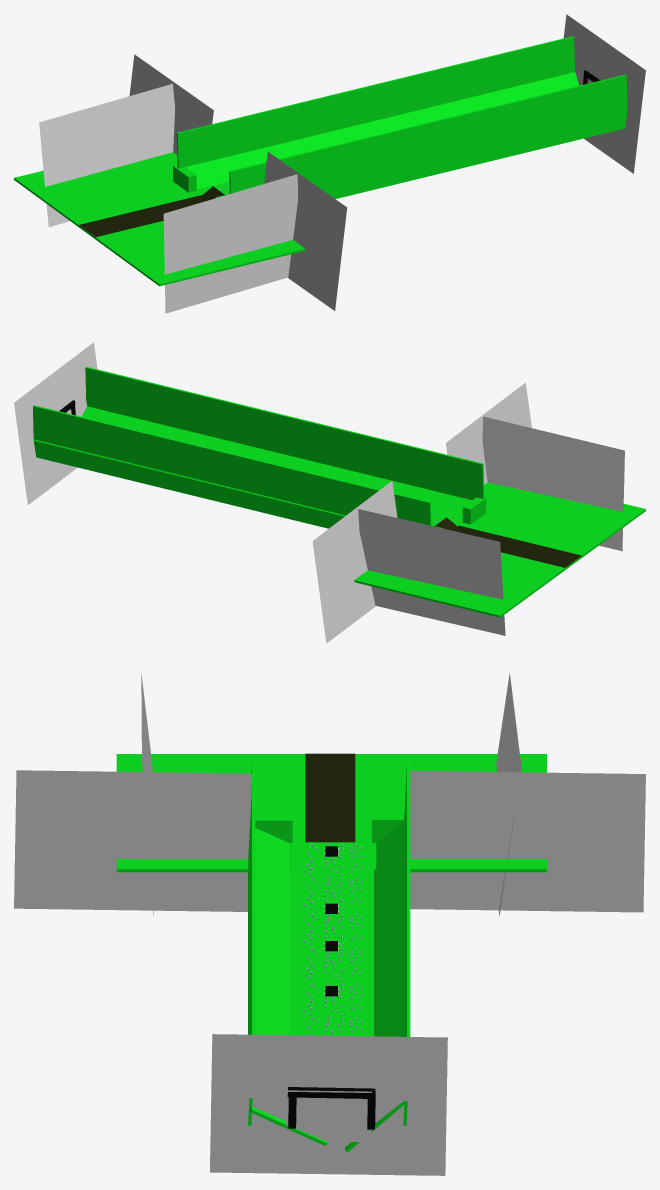
The model's file is iuyre.fbx.
3 renders of one model, top to bottom at view 1: azimuth 30°, elevation 25°; view 2: azimuth 150°, elevation 25°; view 3: azimuth 270°, elevation 25°, orthographic. The views are drawn at different scales.
Parts seen in each view (by area): view 1: Plane.009, Cube.1523, Cube.765, Plane.008, Cube.764, Cube.1522, Cube.1521, Plane.006, Plane.002, Cube.745, Cube.1508, Plane.004 (+3 smaller); view 2: Cube.1523, Plane.008, Cube.764, Plane.009, Cube.765, Cube.1522, Cube.1521, Plane.004, Plane.002, Cube.1507, Plane.006, Cube.744 (+4 smaller); view 3: Plane.006, Plane.004, Plane.002, Cube.1523, Cube.1507, Cube.1508, Plane.001, Cube.1135, Cube.1321, Plane.003, Cube.746, Cube.949 (+13 smaller).
Part boxes in pixels (x1,y1,x2,y2): Plane.009: (163,174,297,313); Cube.1523: (14,152,305,286); Cube.765: (423,74,627,174); Plane.008: (39,83,175,226); Cube.764: (370,36,574,121); Cube.1522: (229,124,434,198); Cube.1521: (176,85,381,168); Plane.006: (264,151,347,310); Plane.002: (563,14,645,173); Cube.745: (372,72,579,134); Cube.1508: (177,121,377,189); Plane.004: (129,54,213,154); Cube.1523: (354,482,645,617); Plane.008: (358,509,505,635); Cube.764: (33,405,236,506); Plane.009: (482,416,624,551); Cube.765: (85,366,289,454); Cube.1522: (279,416,484,499); Cube.1521: (226,453,431,528); Plane.004: (312,481,397,643); Plane.002: (14,342,97,504); Cube.1507: (271,452,471,521); Plane.006: (446,383,531,484); Cube.744: (81,406,283,463); Plane.006: (14,770,251,911); Plane.004: (410,770,645,912); Plane.002: (210,1034,447,1175); Cube.1523: (116,754,546,872); Cube.1507: (255,828,289,986); Cube.1508: (374,815,404,979); Plane.001: (285,1090,371,1141); Cube.1135: (289,842,373,879); Cube.1321: (289,946,373,983); Plane.003: (305,786,355,842); Cube.746: (289,912,373,948); Cube.949: (289,876,373,912).
Bounding box in the file's own units: 53018 × 10161 × 37812.
